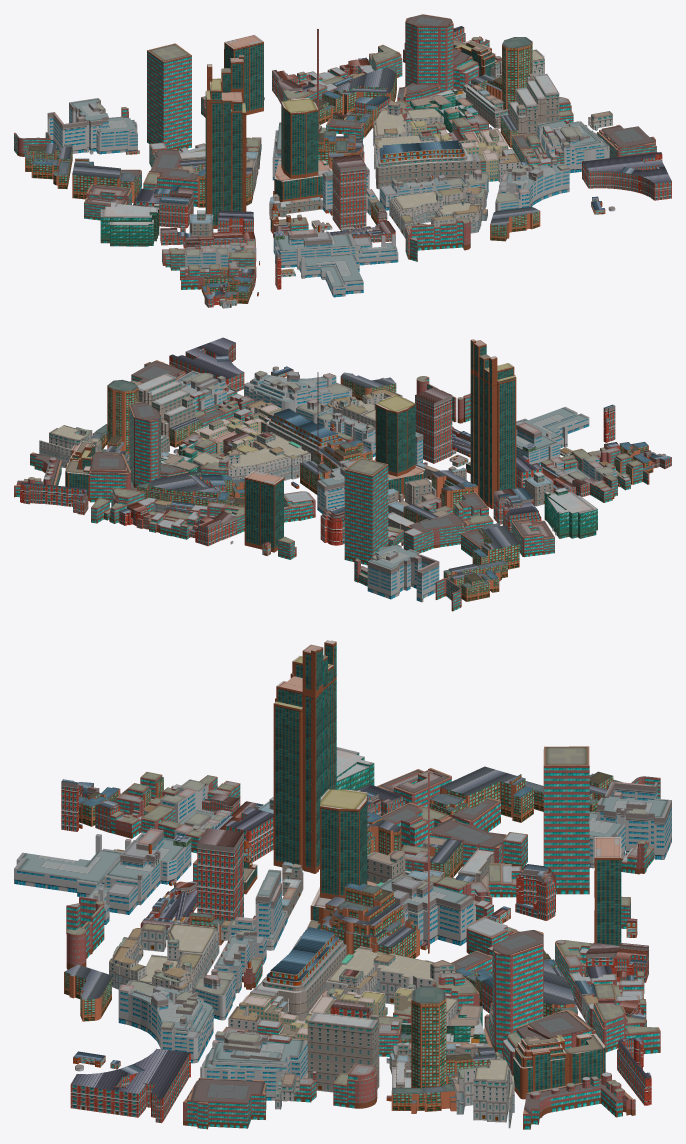
3 renders of one model, top to bottom at view 1: azimuth 30°, elevation 25°; view 2: azimuth 150°, elevation 25°; view 3: azimuth 270°, elevation 25°, orthographic. The views are drawn at different scales.
Visible parts, largest first — view 1: Buildings_3_202233232221331_buildings_01_INDEX0; view 2: Buildings_3_202233232221331_buildings_01_INDEX0; view 3: Buildings_3_202233232221331_buildings_01_INDEX0.
Part boxes in pixels (x1,y1,x2,y2): Buildings_3_202233232221331_buildings_01_INDEX0: [14, 14, 671, 308]; Buildings_3_202233232221331_buildings_01_INDEX0: [14, 337, 671, 611]; Buildings_3_202233232221331_buildings_01_INDEX0: [14, 640, 671, 1129].
Size of the model in its own units: 67676 by 20643 by 54564.
